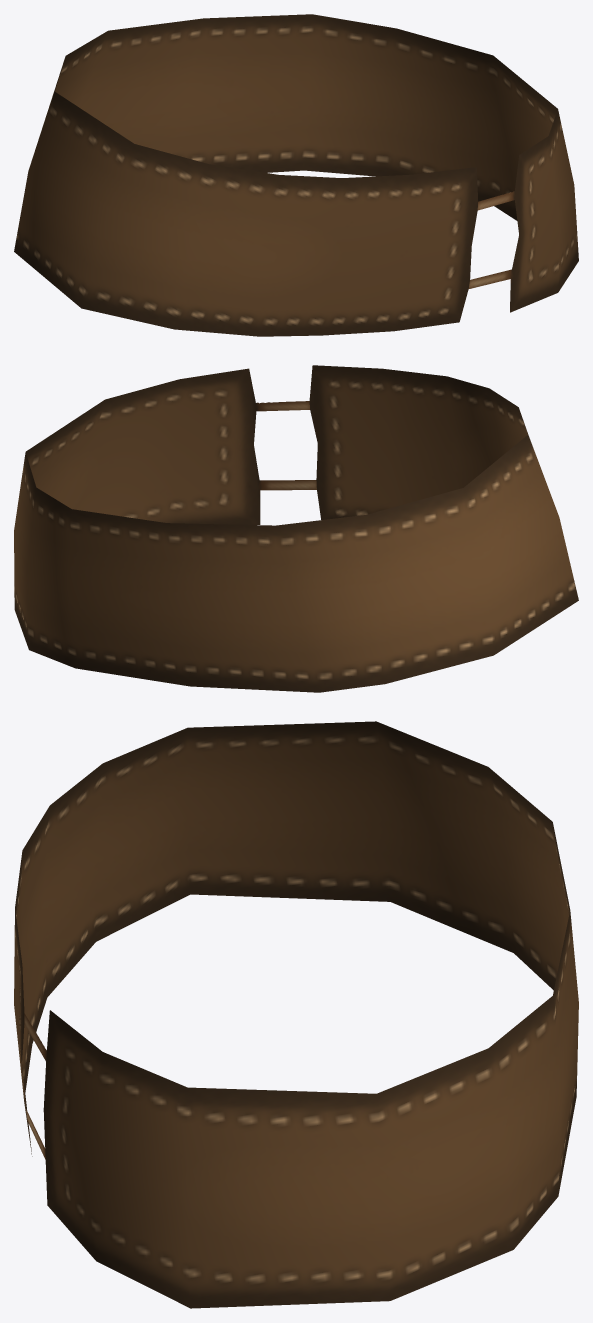
File: LAS_1_Belt.obj
The picture shows the model from 3 angles, top to bottom: view 1: azimuth 30°, elevation 25°; view 2: azimuth 150°, elevation 25°; view 3: azimuth 270°, elevation 25°; orthographic projection. The views are drawn at different scales.
Parts seen in each view (by area): view 1: Knight.014_proxy741.obj.010; view 2: Knight.014_proxy741.obj.010; view 3: Knight.014_proxy741.obj.010.
Boxes of the visible parts, bbox=[...] form: Knight.014_proxy741.obj.010: bbox=[14, 14, 578, 336]; Knight.014_proxy741.obj.010: bbox=[14, 365, 578, 692]; Knight.014_proxy741.obj.010: bbox=[14, 721, 578, 1308].
Size of the model in its own units: 0.4321 by 0.1891 by 0.325.
